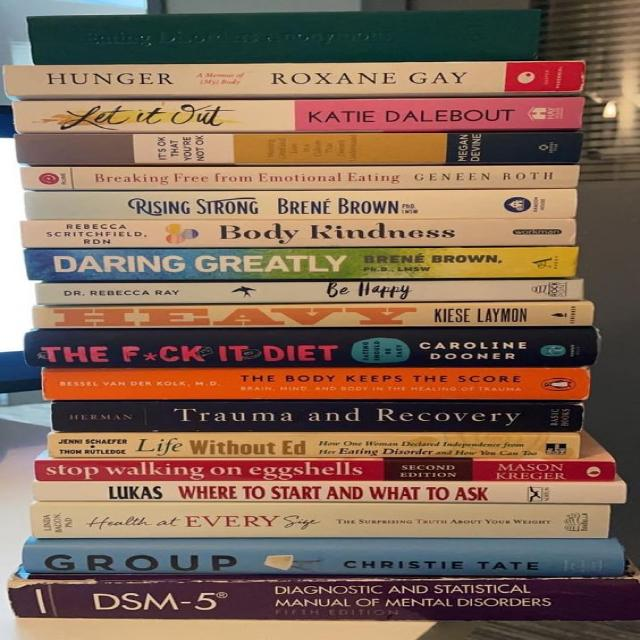book: (28, 10, 540, 64), (11, 578, 640, 618), (25, 326, 597, 368), (5, 61, 584, 99), (14, 97, 583, 133), (31, 503, 609, 538), (26, 247, 578, 282), (17, 132, 581, 165), (28, 541, 621, 572), (43, 367, 589, 400), (25, 189, 576, 220), (52, 400, 583, 432), (22, 219, 575, 248), (34, 301, 593, 328), (36, 278, 583, 305), (22, 165, 579, 190), (35, 459, 616, 482), (35, 481, 625, 503), (48, 434, 577, 457)
